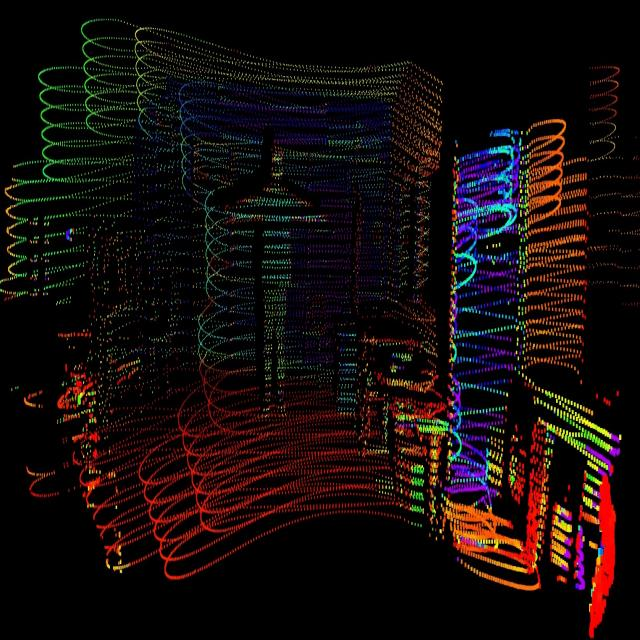human: (227, 137, 330, 424)
